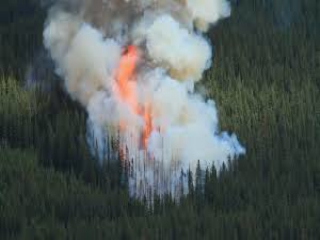fire: (110, 48, 163, 152)
smoke: (139, 8, 246, 182), (43, 15, 112, 162)
